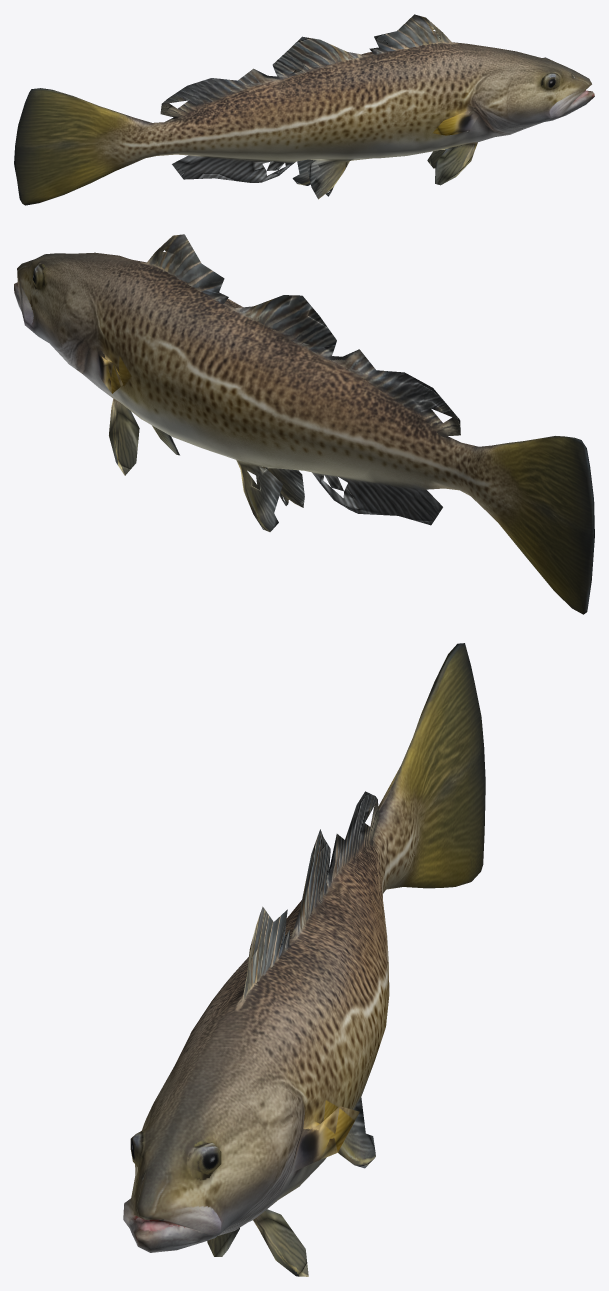
The model's file is cod_single_1500.glb.
3 renders of one model, top to bottom at view 1: azimuth 30°, elevation 25°; view 2: azimuth 150°, elevation 25°; view 3: azimuth 270°, elevation 25°, orthographic. The views are drawn at different scales.
Bounding box in the file's own units: 0.8877 × 0.2928 × 0.2818.
1 material, 1 textured.
